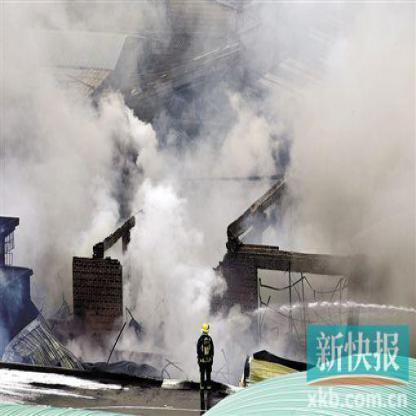smoke: (290, 1, 414, 295), (1, 1, 114, 215), (132, 175, 216, 320), (122, 103, 273, 172), (22, 214, 90, 252), (34, 258, 70, 306)
